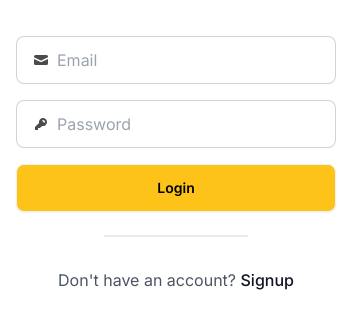
Test case: Login Component › shows error message if login fails
Type "test@gmail.com" into the field with placeholder "Email". click: (188, 60)
box: [57,48,319,72]
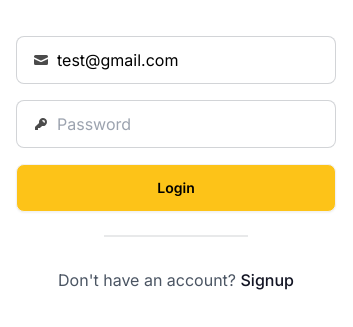
Type "testpass" into the password field with placeholder "Password". click: (188, 124)
box: [57,112,319,136]
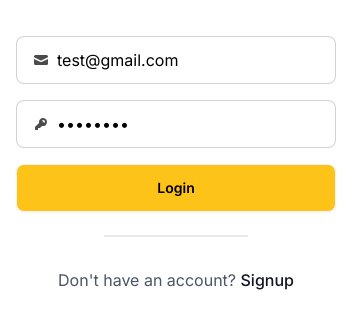
Click the button "Login". click: click(176, 188)
box: [16,164,336,212]
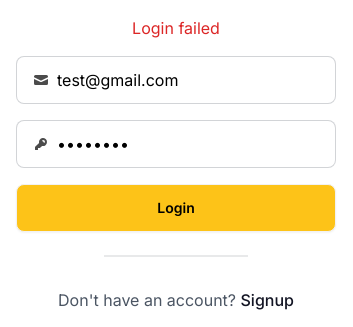
expect the text "Login failed" is shown: met, box [132,16,220,40]
